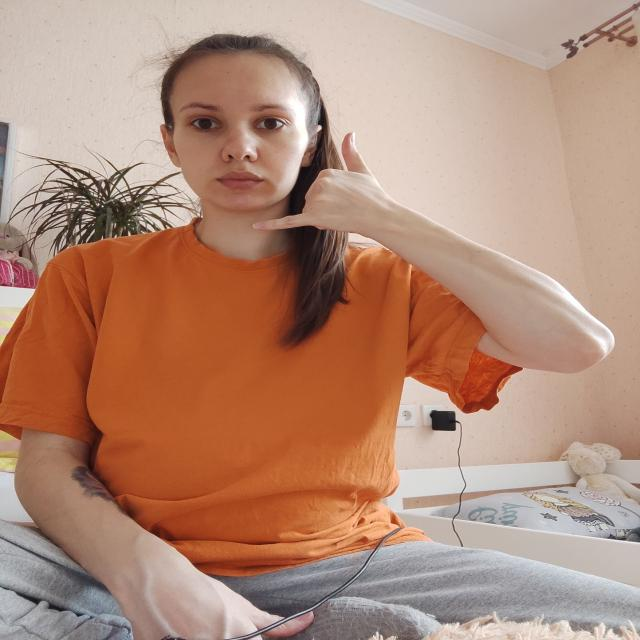call: (247, 130, 393, 238)
